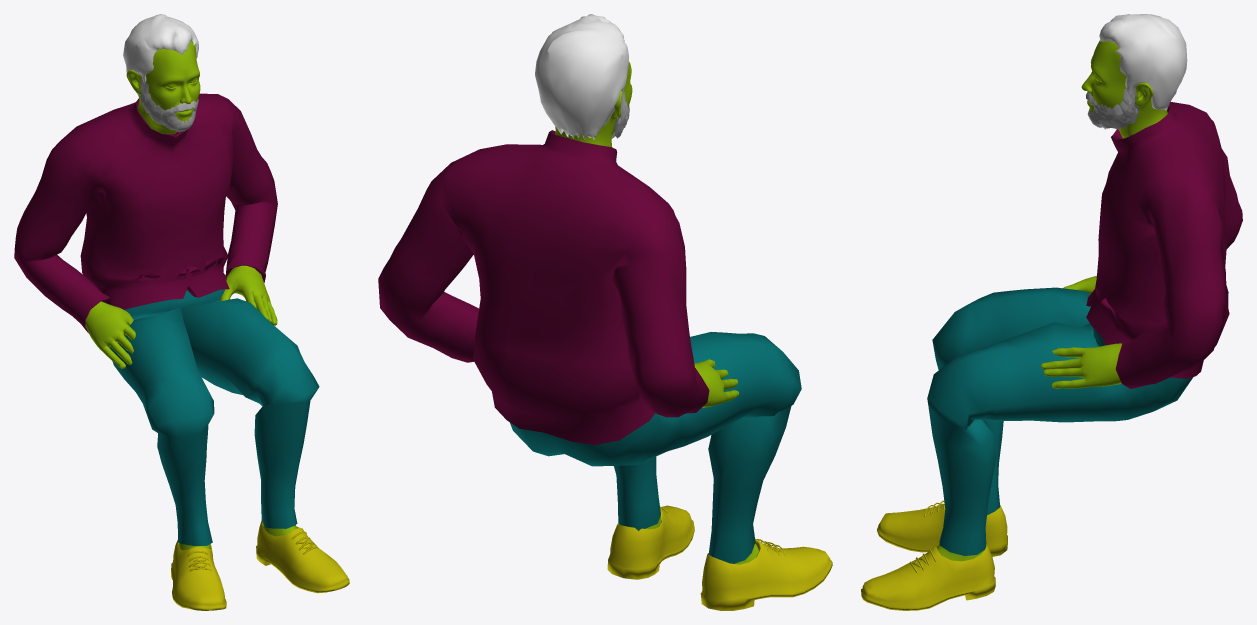
Rendered from James I Sitting2.fbx.
The picture shows the model from 3 angles, left to right: view 1: azimuth 30°, elevation 25°; view 2: azimuth 150°, elevation 25°; view 3: azimuth 270°, elevation 25°; orthographic projection. The views are drawn at different scales.
Visible parts, largest first — view 1: group2, Tops; view 2: Tops, group2; view 3: group2, Tops.
Part boxes in pixels (left/top/right/bottom): group2: left=85, top=14, right=349, bottom=610; Tops: left=14, top=93, right=277, bottom=332; Tops: left=378, top=130, right=709, bottom=444; group2: left=510, top=14, right=832, bottom=610; group2: left=861, top=14, right=1193, bottom=610; Tops: left=1086, top=102, right=1242, bottom=388.
Size of the model in its own units: 75.64 by 143 by 89.16.
